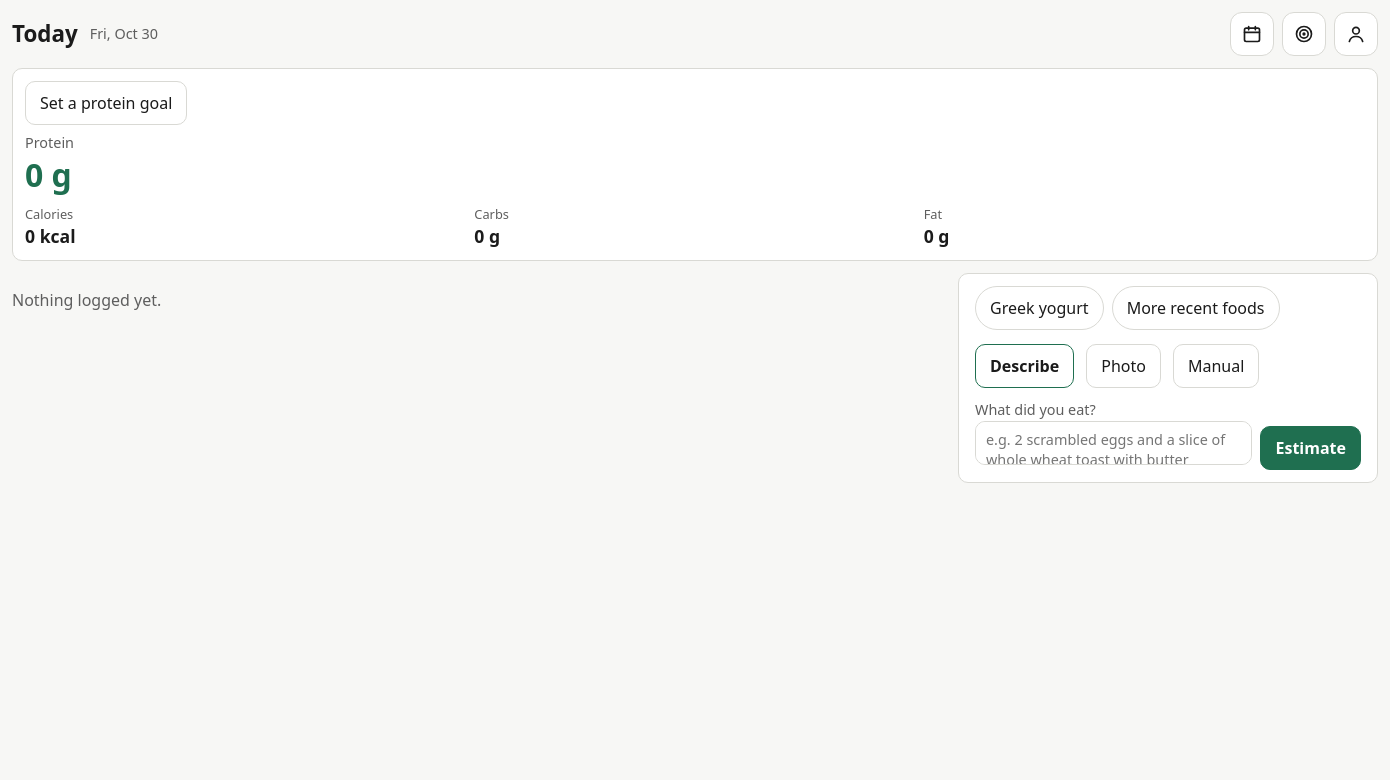
Test: QuickPicks › (d) changing the amount scales the macros to log
Check: the element "recent foods" is shown, box 975,286 -> 1280,330
Click the button "Greek yogurt": (1039, 308) 975,286 -> 1104,330
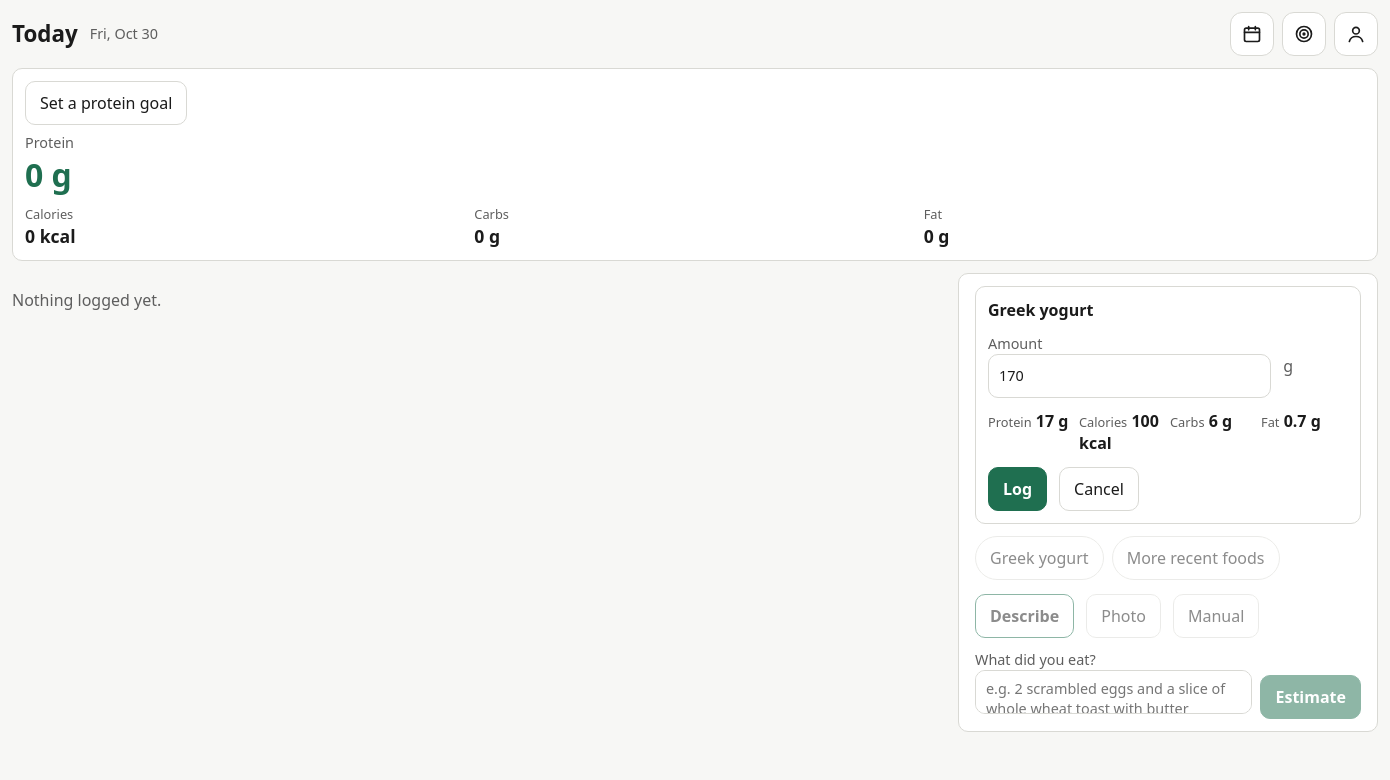
Replace the text in the number field labelled "Amount" with "85": (1130, 376) 988,354 -> 1271,398
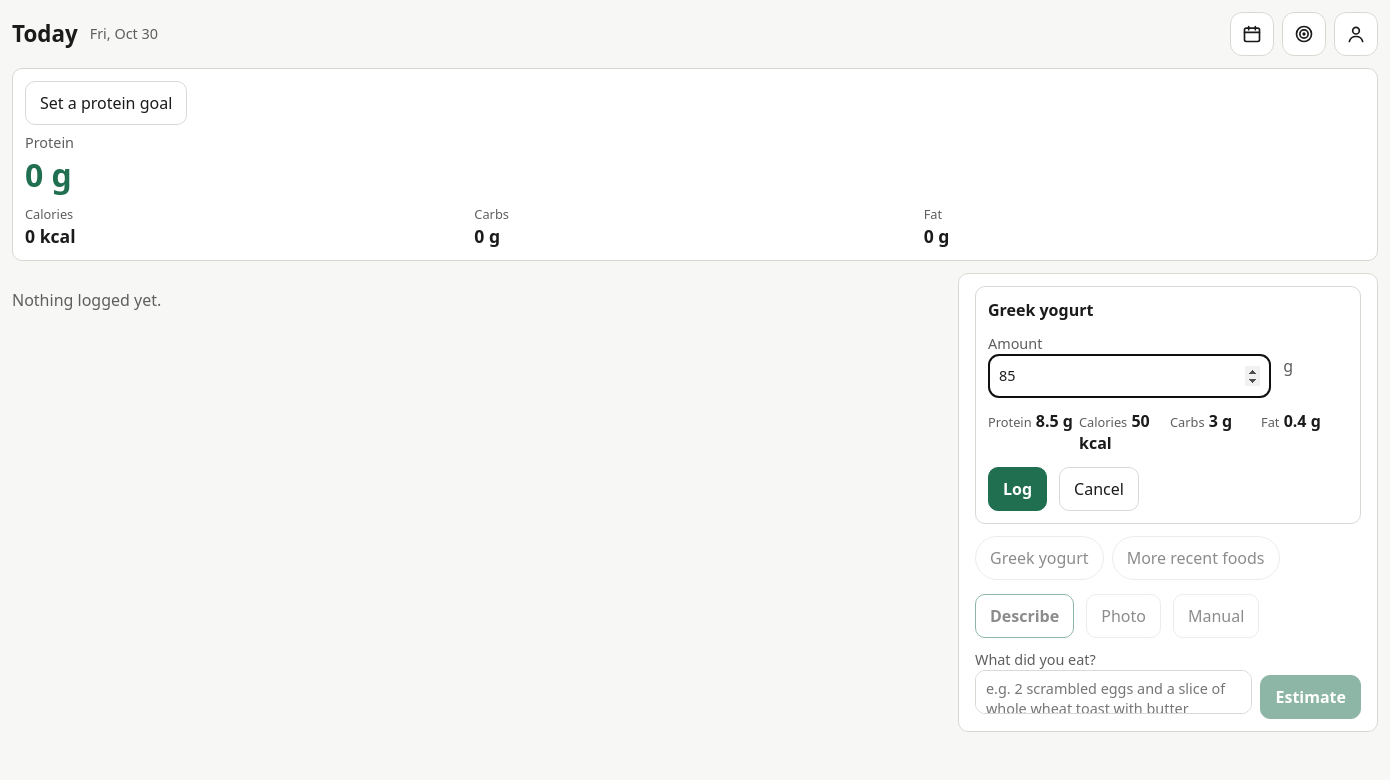
Check: the text "8.5 g" is shown, box 1036,410 -> 1073,432
Check: the text "50 kcal" is shown, box 1079,410 -> 1150,454
